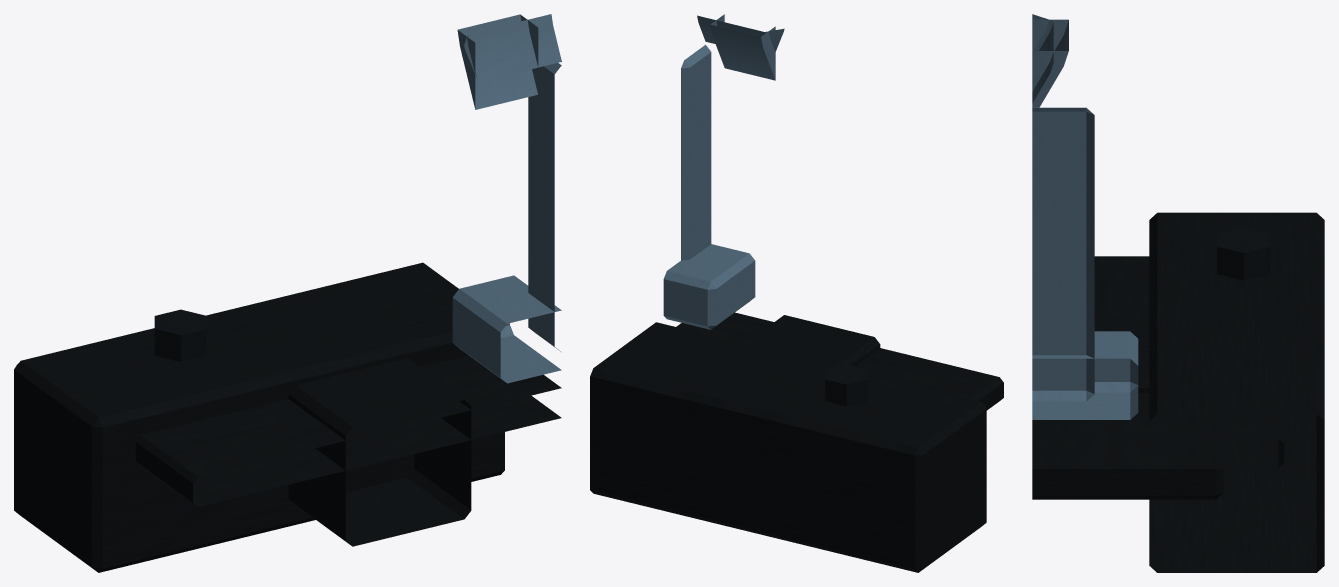
File: cell_0.obj
The picture shows the model from 3 angles, left to right: view 1: azimuth 30°, elevation 25°; view 2: azimuth 150°, elevation 25°; view 3: azimuth 270°, elevation 25°; orthographic projection. The views are drawn at different scales.
Parts seen in each view (by area): view 1: cell_0; view 2: cell_0; view 3: cell_0.
Part boxes in pixels (x1,y1,x2,y2): cell_0: [14, 14, 561, 572]; cell_0: [590, 14, 1003, 572]; cell_0: [1032, 14, 1324, 572].
Size of the model in its own units: 0.86 by 1 by 0.52.
